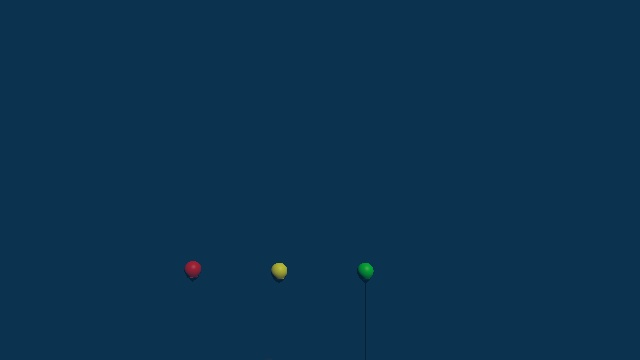buoy_green: (356, 260, 374, 284)
buoy_red: (184, 259, 201, 279)
